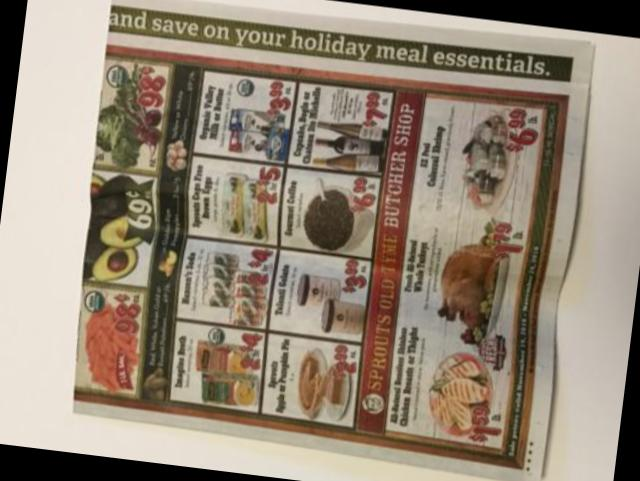cardboard paper: (73, 0, 590, 481)
